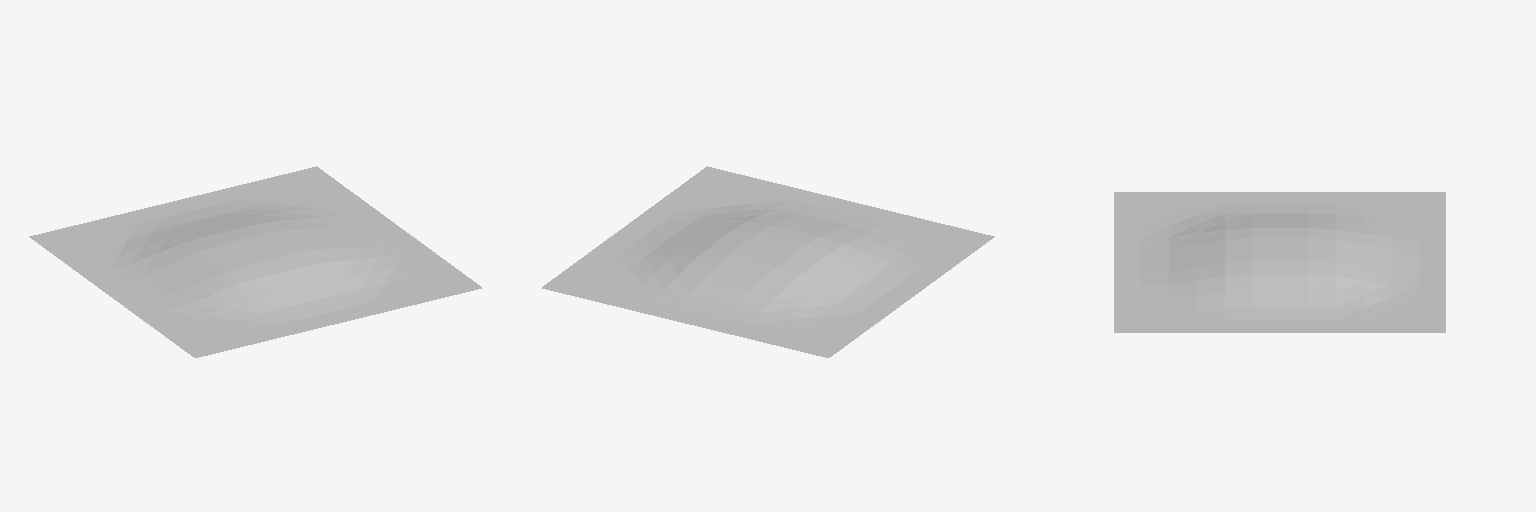
File: SM_Env_GroundMound_01.obj
The picture shows the model from 3 angles: view 1: azimuth 30°, elevation 25°; view 2: azimuth 150°, elevation 25°; view 3: azimuth 270°, elevation 25°; orthographic projection.
Visible parts, largest first — view 1: SM_Env_GroundMound_01:Mesh; view 2: SM_Env_GroundMound_01:Mesh; view 3: SM_Env_GroundMound_01:Mesh.
Part boxes in pixels (x1,y1,x2,y2): SM_Env_GroundMound_01:Mesh: (29, 166, 481, 357); SM_Env_GroundMound_01:Mesh: (542, 166, 994, 357); SM_Env_GroundMound_01:Mesh: (1114, 192, 1445, 332).
Size of the model in its own units: 30.02 by 1.28 by 30.02.